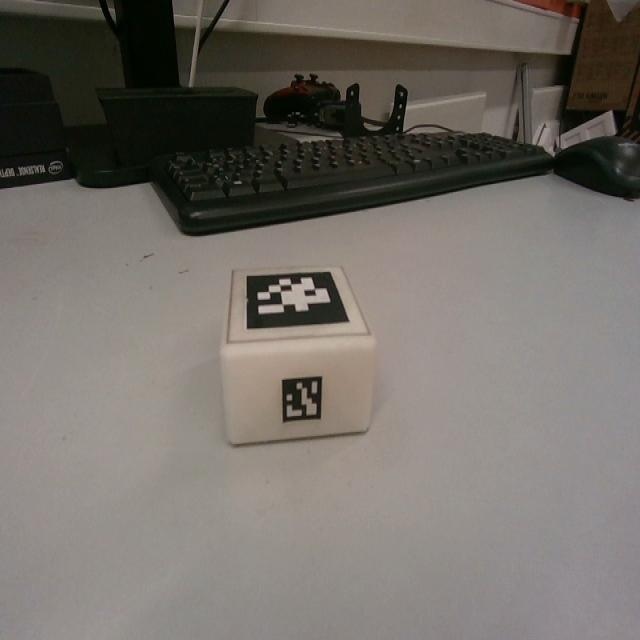Cube: (218, 263, 377, 445)
